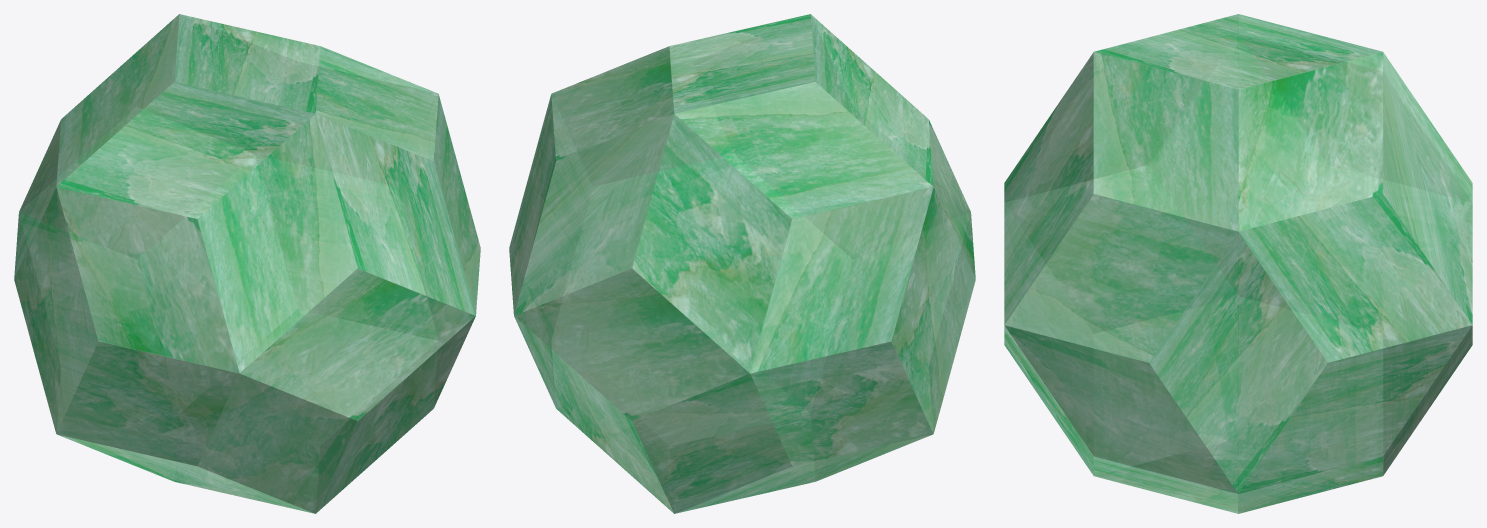
The model's file is RhombicTriacontahedron.obj.
3 renders of one model, left to right at view 1: azimuth 30°, elevation 25°; view 2: azimuth 150°, elevation 25°; view 3: azimuth 270°, elevation 25°, orthographic. The views are drawn at different scales.
Size of the model in its own units: 2.93 by 2.93 by 2.93.
Materials: 1 (1 with a texture image).
